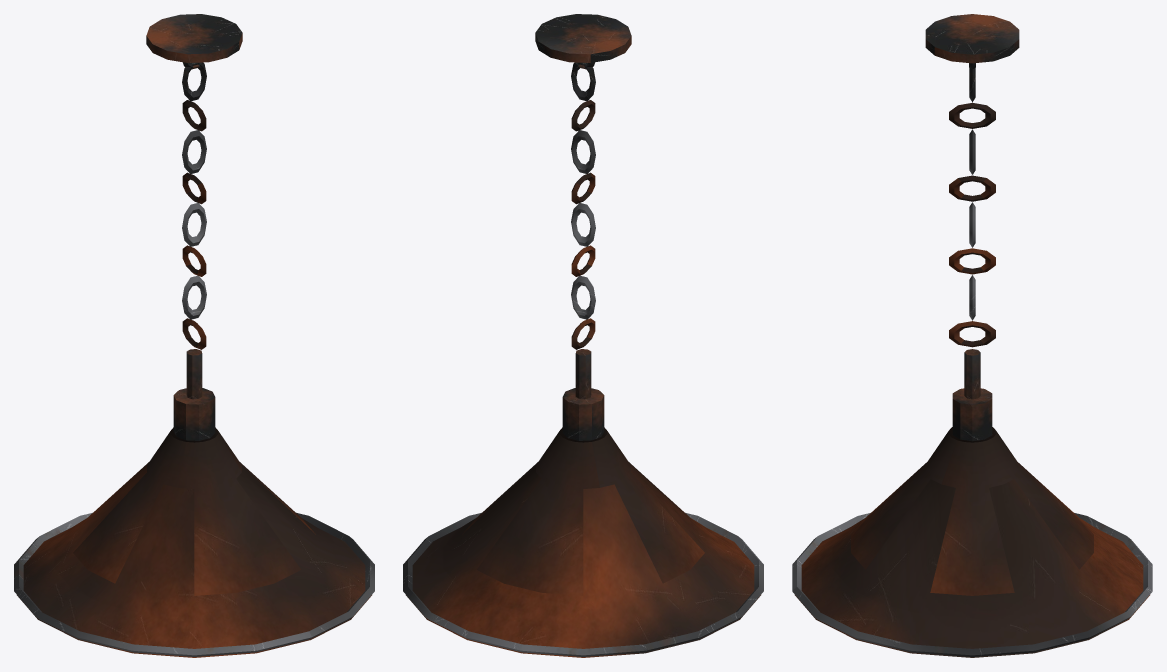
Rendered from light_hanging_lamp.glb.
3 renders of one model, left to right at view 1: azimuth 30°, elevation 25°; view 2: azimuth 150°, elevation 25°; view 3: azimuth 270°, elevation 25°, orthographic.
Parts seen in each view (by area): view 1: Rust, Body; view 2: Rust, Body; view 3: Rust, Body.
Part boxes in pixels (left/top/right/bottom): Rust: left=17, top=100, right=371, bottom=657; Body: left=14, top=14, right=374, bottom=656; Rust: left=406, top=100, right=760, bottom=657; Body: left=403, top=14, right=763, bottom=656; Rust: left=795, top=102, right=1149, bottom=657; Body: left=792, top=14, right=1152, bottom=656.
Bounding box in the file's own units: 0.456 × 0.8185 × 0.4491.
Materials: 3 (2 with a texture image).
